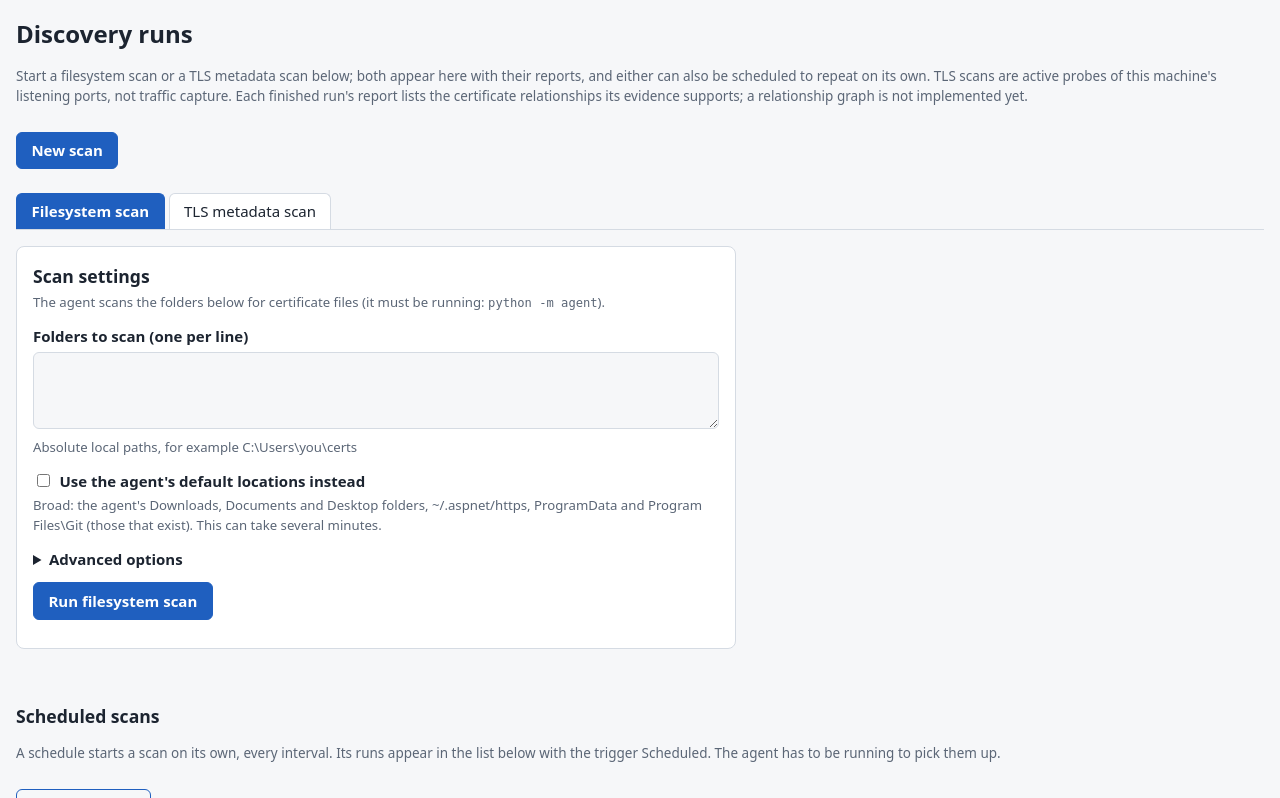
Scenario: the notice about a newly created run follows that run › reports a completed run with no records as such
Type "C:\\certs" into the text box labelled "Folders to scan (one per line)" at [376, 390], box [33,352,719,429]
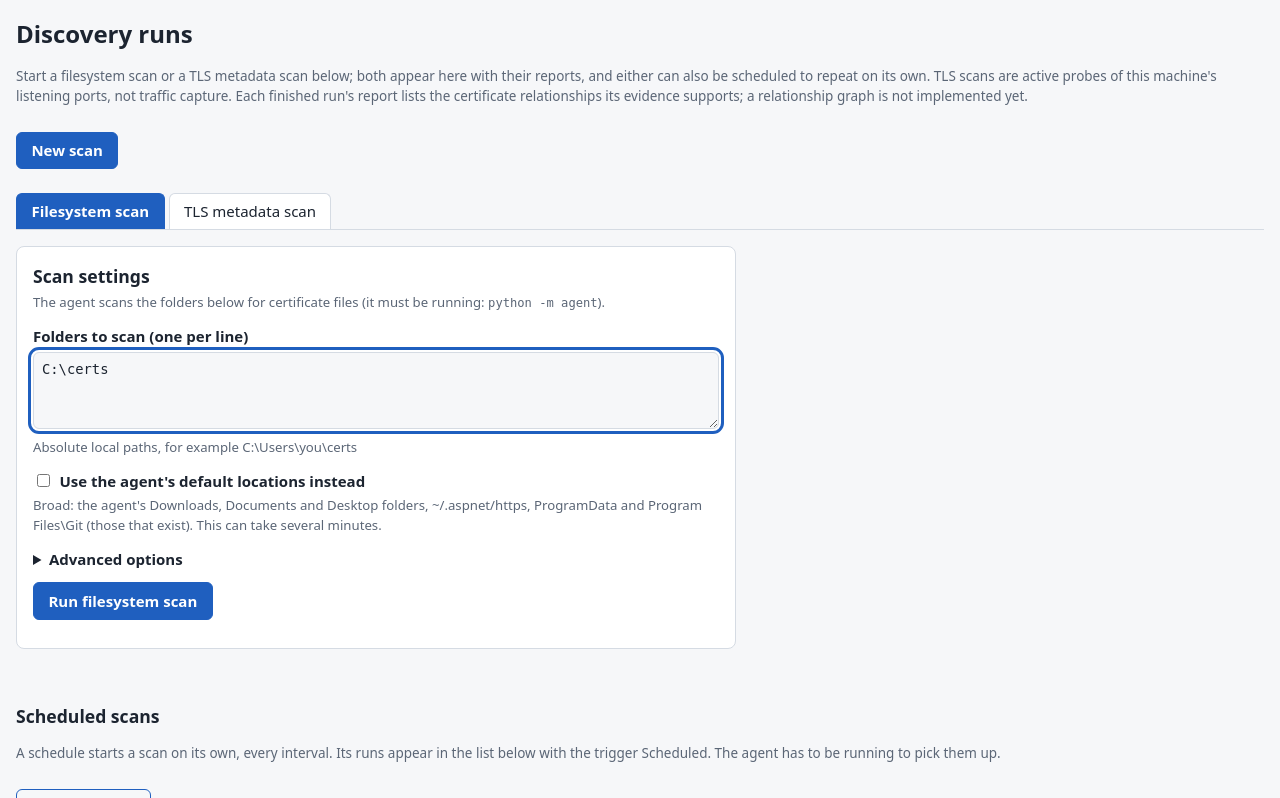
Click the button "Run filesystem scan" at [123, 601], box [33,582,213,620]
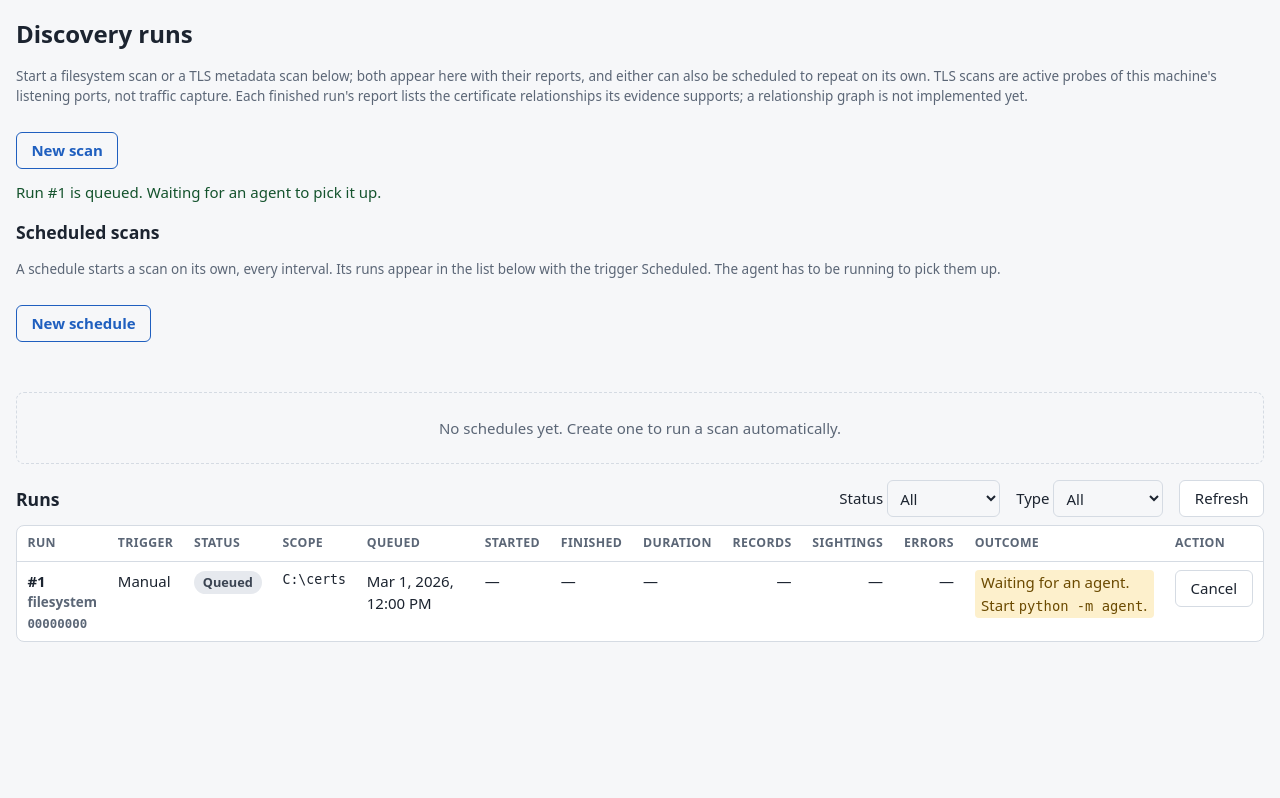
Expected: the text "Run #1 is queued. Waiting for an agent to pick it up." is shown, [16,182,381,202]
Click the button "Refresh" at [1222, 499], box [1180,480,1264,517]
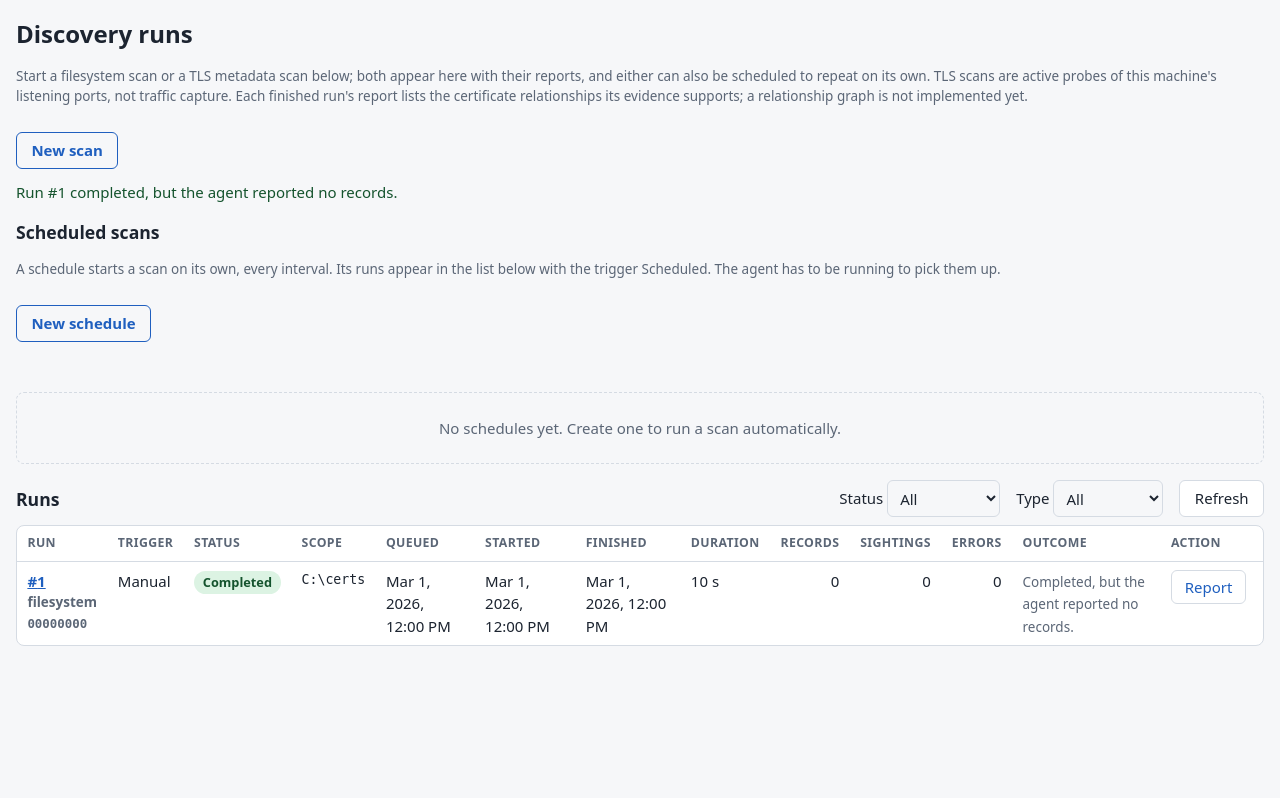
Expected: the text "Run #1 completed, but the agent reported no records." is shown, [16,182,397,202]
